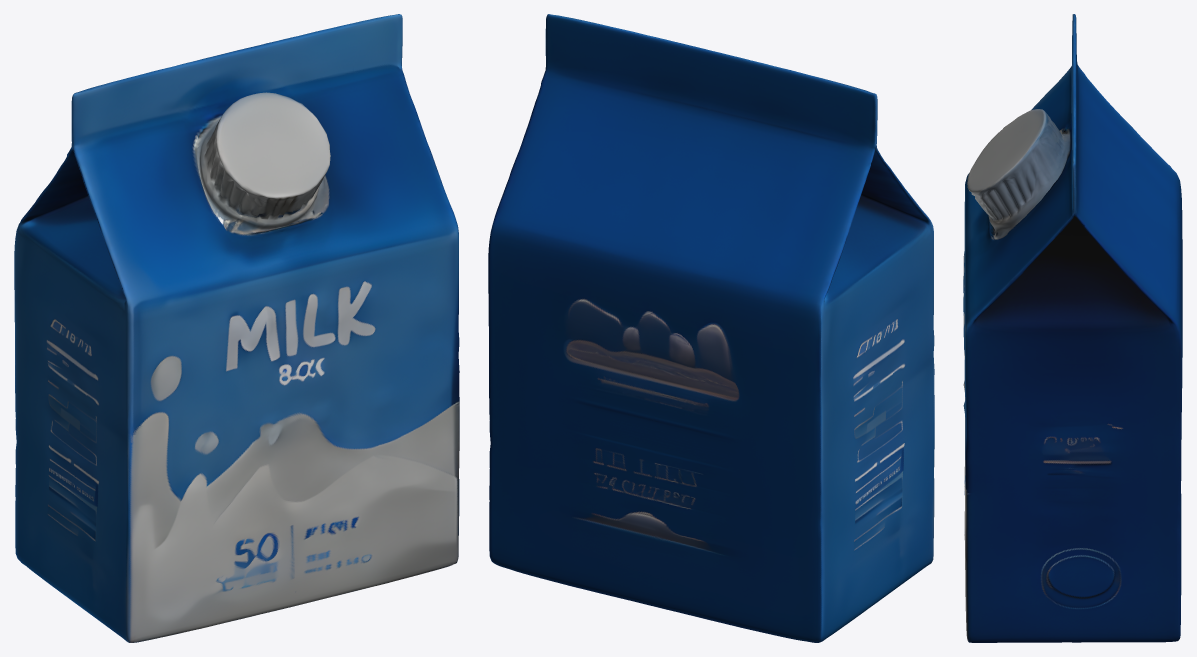
The model's file is MilkCartonbase_basic_pbr.fbx.
The picture shows the model from 3 angles, left to right: view 1: azimuth 30°, elevation 25°; view 2: azimuth 150°, elevation 25°; view 3: azimuth 270°, elevation 25°; orthographic projection. The views are drawn at different scales.
Visible parts, largest first — view 1: model; view 2: model; view 3: model.
Boxes of the visible parts, box(x1,y1,x2,y2) form: model: box(14, 14, 459, 642); model: box(488, 14, 934, 642); model: box(963, 14, 1182, 642).
Size of the model in its own units: 125 by 186 by 76.11.
Materials: 1 (1 with a texture image).
